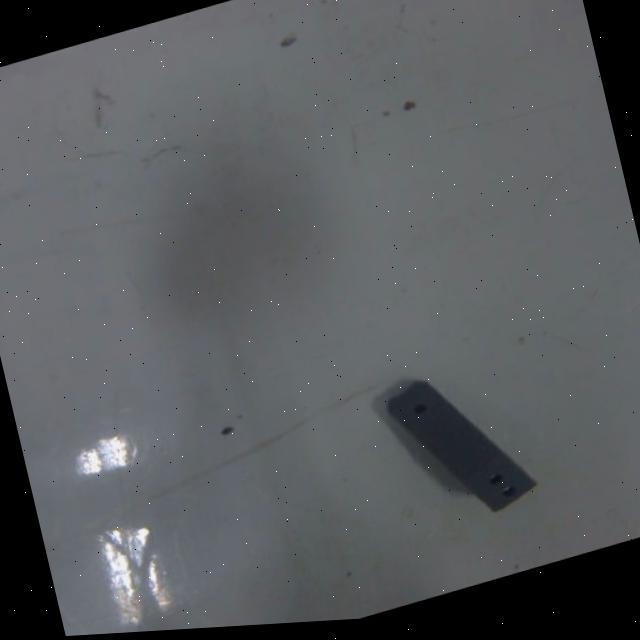grey: (380, 348, 544, 536)
head: (410, 399, 430, 416)
